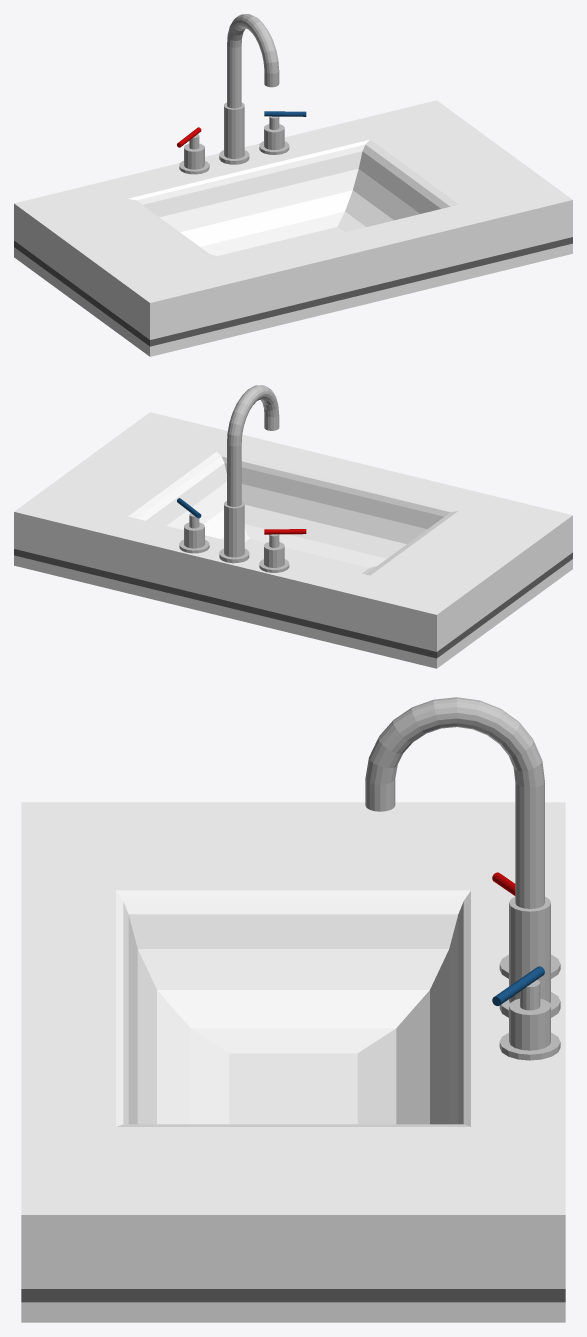
The model's file is Prop_Sink_01.fbx.
3 views of the same model, one above another, from view 1: azimuth 30°, elevation 25°; view 2: azimuth 150°, elevation 25°; view 3: azimuth 270°, elevation 25° (orthographic). The views are drawn at different scales.
Visible parts, largest first — view 1: Prop_Sink_01; view 2: Prop_Sink_01; view 3: Prop_Sink_01.
Boxes of the visible parts, box(x1,y1,x2,y2) form: Prop_Sink_01: box(14, 14, 572, 356); Prop_Sink_01: box(14, 385, 572, 668); Prop_Sink_01: box(21, 697, 565, 1322).
Bounding box in the file's own units: 103 × 48.73 × 57.57.
